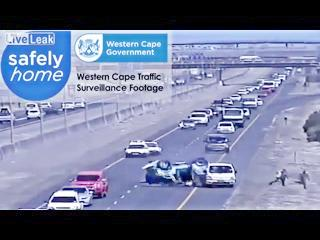Car: (142, 160, 189, 187), (70, 170, 108, 198), (205, 162, 236, 187), (58, 185, 93, 207), (48, 191, 81, 210), (187, 159, 208, 188), (204, 134, 231, 153), (124, 139, 148, 157), (0, 107, 15, 124), (216, 121, 235, 134), (143, 141, 161, 154), (178, 119, 198, 129), (195, 109, 213, 120), (212, 102, 230, 113), (242, 97, 259, 108), (26, 108, 41, 119), (263, 81, 276, 92), (25, 103, 39, 113), (62, 101, 75, 110), (235, 117, 245, 128), (221, 98, 234, 106), (210, 106, 220, 116), (40, 102, 52, 110), (212, 99, 224, 107), (74, 100, 85, 108), (242, 108, 250, 118), (230, 94, 241, 101), (244, 86, 255, 93), (237, 89, 249, 95), (175, 78, 185, 85), (258, 91, 268, 98), (168, 80, 175, 86), (194, 75, 202, 80), (206, 73, 213, 78), (271, 73, 278, 78), (296, 68, 302, 73)
Major Accident: (141, 158, 211, 190)
